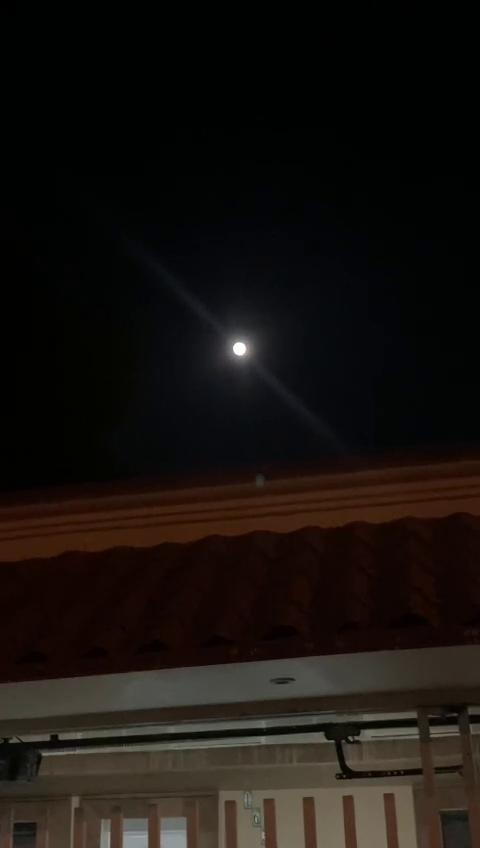moon: (227, 330, 246, 349)
